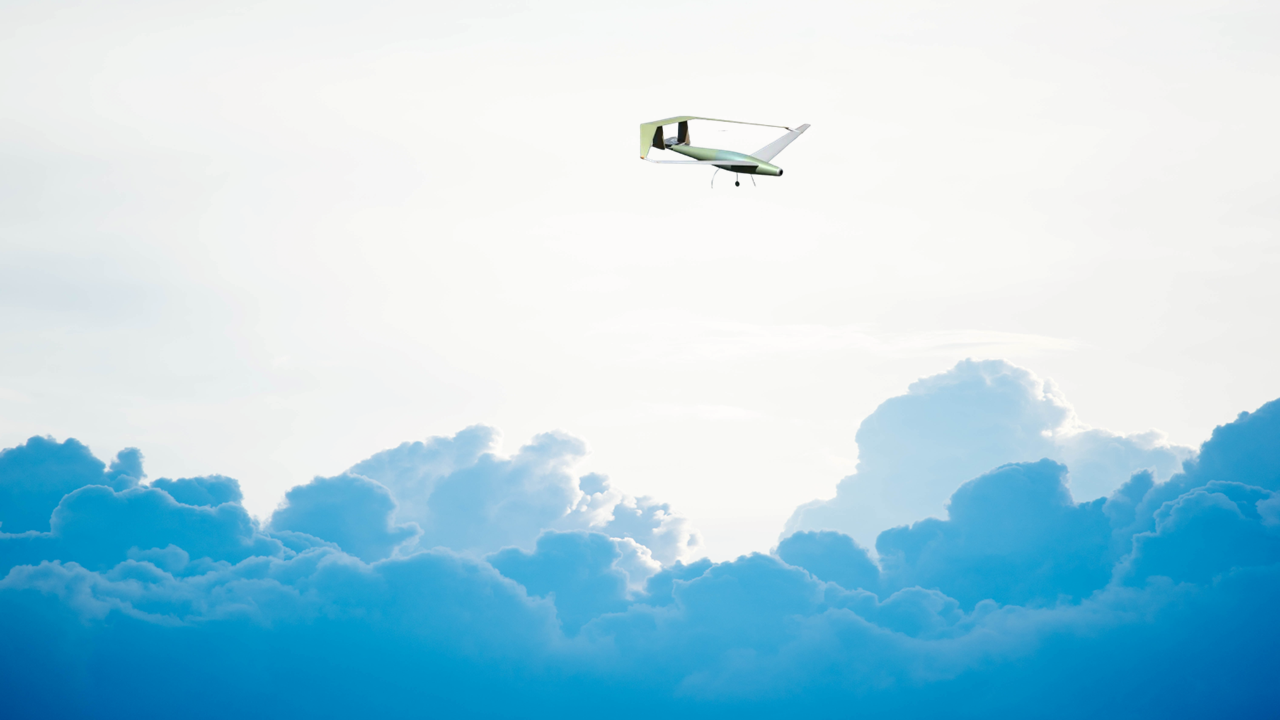military drone: (639, 115, 810, 188)
